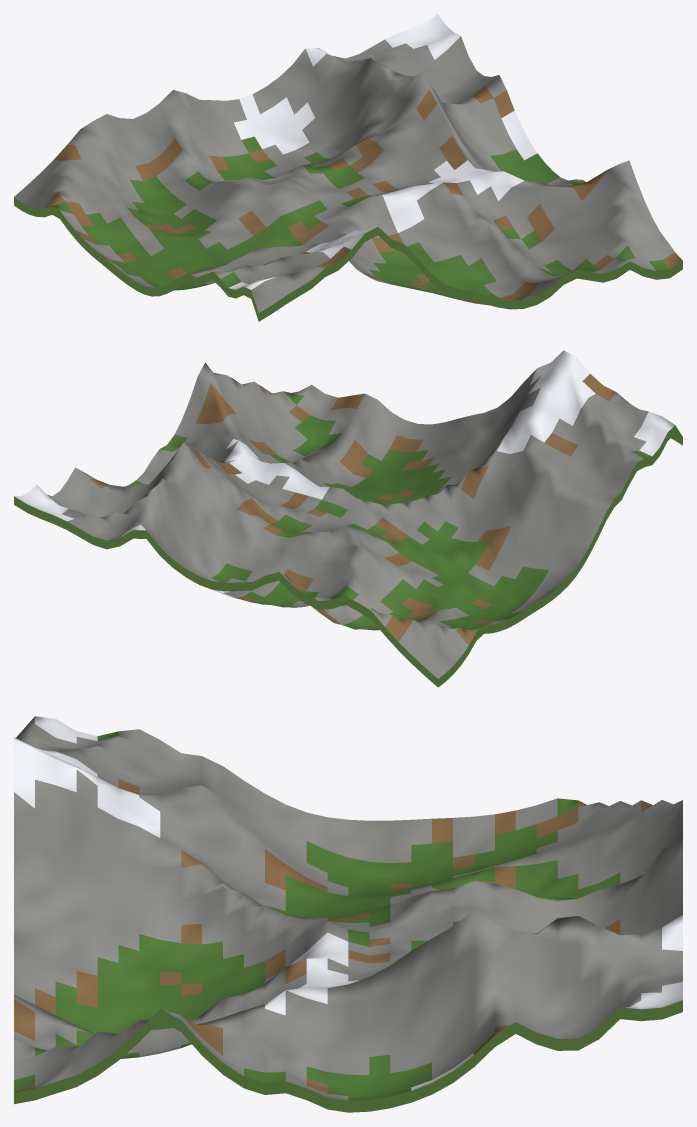
Rendered from chunk_4_1_lod1.glb.
3 views of the same model, one above another, from view 1: azimuth 30°, elevation 25°; view 2: azimuth 150°, elevation 25°; view 3: azimuth 270°, elevation 25° (orthographic). The views are drawn at different scales.
Visible parts, largest first — view 1: Surface_Gravel, Surface_Grass, Surface_Snow, Surface_Dirt, Skirt; view 2: Surface_Gravel, Surface_Grass, Surface_Dirt, Surface_Snow, Skirt; view 3: Surface_Gravel, Surface_Grass, Surface_Snow, Surface_Dirt, Skirt.
Part boxes in pixels (x1=…): Surface_Gravel: x1=14, y1=36, x2=674, y2=312; Surface_Grass: x1=52, y1=136, x2=669, y2=305; Surface_Snow: x1=229, y1=14, x2=537, y2=289; Surface_Dirt: x1=45, y1=86, x2=682, y2=304; Skirt: x1=14, y1=197, x2=682, y2=321; Surface_Gravel: x1=47, y1=362, x2=648, y2=678; Surface_Grass: x1=126, y1=391, x2=651, y2=632; Surface_Dirt: x1=89, y1=373, x2=616, y2=645; Surface_Snow: x1=14, y1=350, x2=674, y2=597; Skirt: x1=14, y1=425, x2=682, y2=687; Surface_Gravel: x1=14, y1=716, x2=682, y2=1100; Surface_Grass: x1=14, y1=731, x2=620, y2=1100; Surface_Snow: x1=14, y1=716, x2=682, y2=1090; Surface_Dirt: x1=14, y1=779, x2=652, y2=1093; Skirt: x1=14, y1=1000, x2=682, y2=1112.
Bounding box in the file's own units: 256 × 79.83 × 256.
